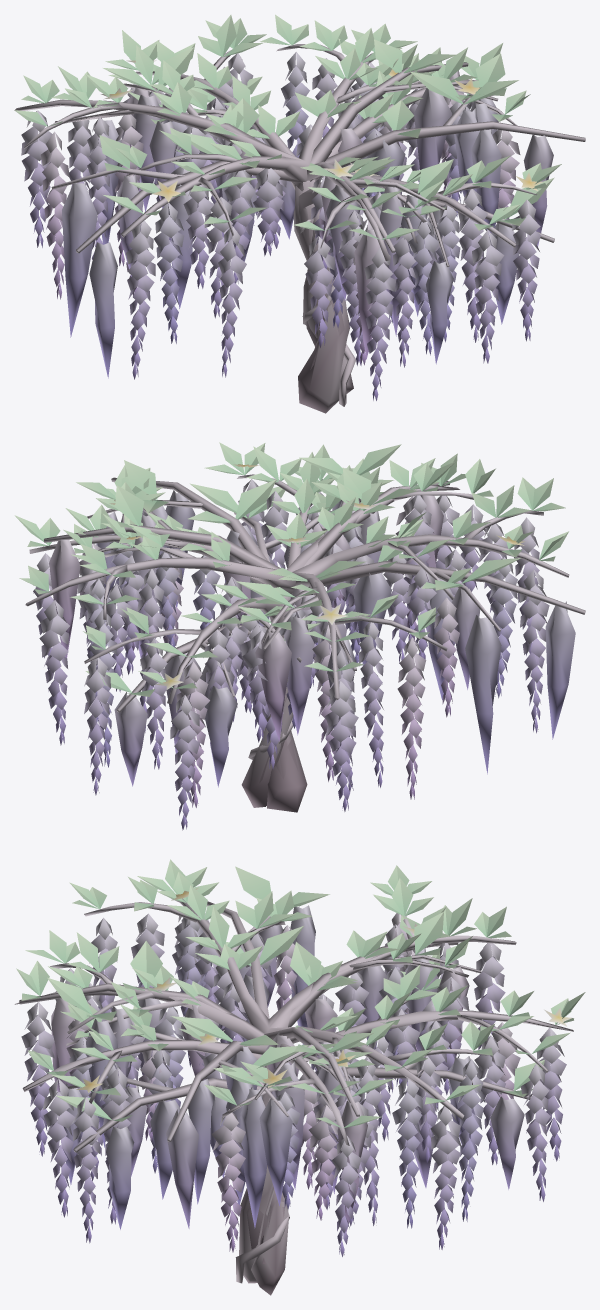
Rendered from wisteria_tree.glb.
3 renders of one model, top to bottom at view 1: azimuth 30°, elevation 25°; view 2: azimuth 150°, elevation 25°; view 3: azimuth 270°, elevation 25°, orthographic. The views are drawn at different scales.
Parts seen in each view (by area): view 1: near, far; view 2: near, far; view 3: near, far.
Part boxes in pixels (x1,y1,x2,y2): near: [14, 14, 561, 413]; far: [51, 39, 585, 378]; near: [14, 442, 569, 830]; far: [44, 444, 585, 787]; near: [14, 859, 585, 1295]; far: [19, 866, 544, 1264].
Bounding box in the file's own units: 8.51 × 5.22 × 8.31.
